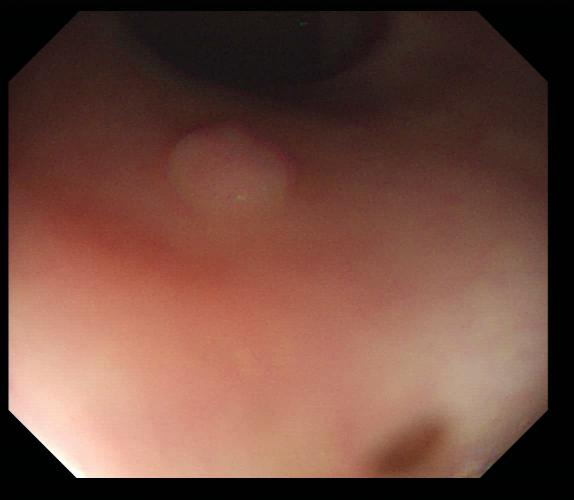polyp: (170, 125, 298, 225)
